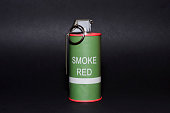e1: (64, 19, 105, 103)
